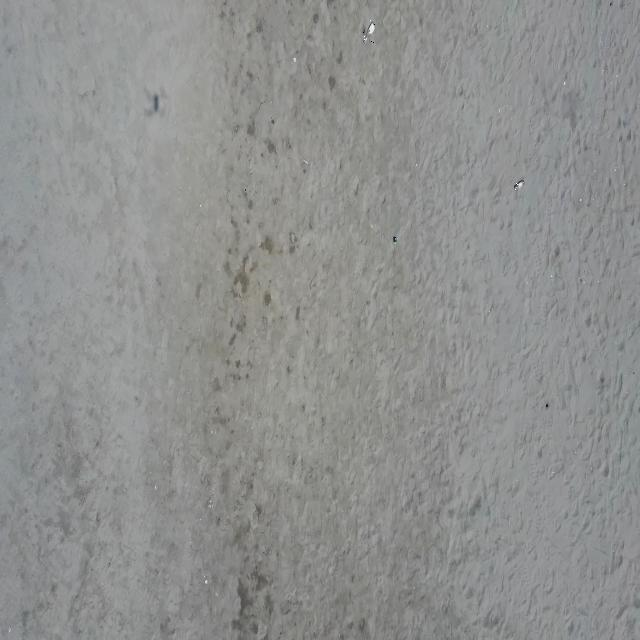glass: (363, 20, 376, 44), (514, 180, 524, 191), (393, 236, 398, 245)
